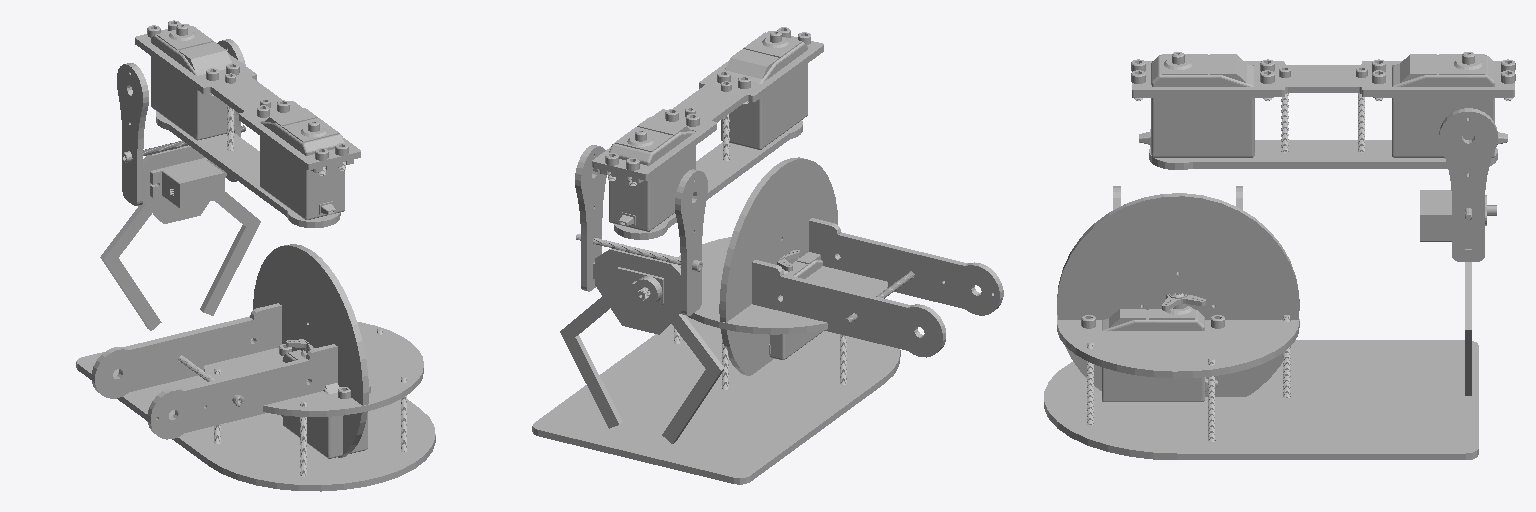
URDF robot description (little_robot_2023):
<?xml version="1.0" encoding="utf-8"?>
<!-- This URDF was automatically created by SolidWorks to URDF Exporter! Originally created by [author] ([email redacted]) 
     Commit Version: 1.6.0-4-g7f85cfe  Build Version: 1.6.7995.38578
     For more information, please see http://wiki.ros.org/sw_urdf_exporter -->
<robot
  name="little_robot_2023">
  <link
    name="base_link">
    <inertial>
      <origin
        xyz="2.9701E-11 0.023639 0.012305"
        rpy="0 0 0" />
      <mass
        value="0.07779" />
      <inertia
        ixx="0.00012072"
        ixy="5.3427E-14"
        ixz="3.2492E-15"
        iyy="5.5344E-05"
        iyz="-5.4001E-09"
        izz="0.00017528" />
    </inertial>
    <visual>
      <origin
        xyz="0 0 0"
        rpy="0 0 0" />
      <geometry>
        <mesh
          filename="package://little_robot_2023/meshes/base_link.STL" />
      </geometry>
      <material
        name="">
        <color
          rgba="0.75294 0.75294 0.75294 1" />
      </material>
    </visual>
    <collision>
      <origin
        xyz="0 0 0"
        rpy="0 0 0" />
      <geometry>
        <mesh
          filename="package://little_robot_2023/meshes/base_link.STL" />
      </geometry>
    </collision>
  </link>
  <link
    name="link_1">
    <inertial>
      <origin
        xyz="-1.0782E-16 0.017788 -2.5424E-06"
        rpy="0 0 0" />
      <mass
        value="0.032972" />
      <inertia
        ixx="2.097E-05"
        ixy="3.304E-21"
        ixz="3.5145E-22"
        iyy="2.4394E-05"
        iyz="6.1578E-21"
        izz="2.1467E-05" />
    </inertial>
    <visual>
      <origin
        xyz="0 0 0"
        rpy="0 0 0" />
      <geometry>
        <mesh
          filename="package://little_robot_2023/meshes/link_1.STL" />
      </geometry>
      <material
        name="">
        <color
          rgba="0.75294 0.75294 0.75294 1" />
      </material>
    </visual>
    <collision>
      <origin
        xyz="0 0 0"
        rpy="0 0 0" />
      <geometry>
        <mesh
          filename="package://little_robot_2023/meshes/link_1.STL" />
      </geometry>
    </collision>
  </link>
  <joint
    name="joint_1"
    type="revolute">
    <origin
      xyz="0 0 0.042"
      rpy="1.5708 0 1.5708" />
    <parent
      link="base_link" />
    <child
      link="link_1" />
    <axis
      xyz="0 1 0" />
    <limit
      lower="-1.571"
      upper="1.571"
      effort="0"
      velocity="0" />
  </joint>
  <link
    name="link_2">
    <inertial>
      <origin
        xyz="0.05675 2.7756E-16 0.0027959"
        rpy="0 0 0" />
      <mass
        value="0.031129" />
      <inertia
        ixx="1.8688E-06"
        ixy="-1.0685E-13"
        ixz="-3.0119E-21"
        iyy="2.5808E-05"
        iyz="-6.9014E-22"
        izz="2.6912E-05" />
    </inertial>
    <visual>
      <origin
        xyz="0 0 0"
        rpy="0 0 0" />
      <geometry>
        <mesh
          filename="package://little_robot_2023/meshes/link_2.STL" />
      </geometry>
      <material
        name="">
        <color
          rgba="0.75294 0.75294 0.75294 1" />
      </material>
    </visual>
    <collision>
      <origin
        xyz="0 0 0"
        rpy="0 0 0" />
      <geometry>
        <mesh
          filename="package://little_robot_2023/meshes/link_2.STL" />
      </geometry>
    </collision>
  </link>
  <joint
    name="joint_2"
    type="revolute">
    <origin
      xyz="0 0.0845 0"
      rpy="0 0 0" />
    <parent
      link="link_1" />
    <child
      link="link_2" />
    <axis
      xyz="0 0 1" />
    <limit
      lower="-1.571"
      upper="1.571"
      effort="0"
      velocity="0" />
  </joint>
  <link
    name="link_3">
    <inertial>
      <origin
        xyz="0.04247 0.0012743 0.00050505"
        rpy="0 0 0" />
      <mass
        value="0.015925" />
      <inertia
        ixx="2.9309E-06"
        ixy="-1.8461E-21"
        ixz="-1.6956E-21"
        iyy="7.613E-06"
        iyz="4.3843E-08"
        izz="5.3893E-06" />
    </inertial>
    <visual>
      <origin
        xyz="0 0 0"
        rpy="0 0 0" />
      <geometry>
        <mesh
          filename="package://little_robot_2023/meshes/link_3.STL" />
      </geometry>
      <material
        name="">
        <color
          rgba="0.75294 0.75294 0.75294 1" />
      </material>
    </visual>
    <collision>
      <origin
        xyz="0 0 0"
        rpy="0 0 0" />
      <geometry>
        <mesh
          filename="package://little_robot_2023/meshes/link_3.STL" />
      </geometry>
    </collision>
  </link>
  <joint
    name="joint_3"
    type="revolute">
    <origin
      xyz="0.1135 0 0"
      rpy="0 0 0" />
    <parent
      link="link_2" />
    <child
      link="link_3" />
    <axis
      xyz="0 0 1" />
    <limit
      lower="-1.571"
      upper="1.571"
      effort="0"
      velocity="0" />
  </joint>
</robot>

--- Render facts (derived) ---
Views: 3 orthographic renders of the robot side by side, from view 1: azimuth 30°, elevation 25°; view 2: azimuth 150°, elevation 25°; view 3: azimuth 270°, elevation 25°.
Robot: little_robot_2023 — 4 links, 3 joints (3 revolute); root link base_link; default pose: every joint at zero.
Links seen in each view (by area): view 1: link_1, base_link, link_2, link_3; view 2: base_link, link_1, link_2, link_3; view 3: base_link, link_2, link_1, link_3.
Boxes of the visible links, x1=… form: link_1: x1=92, y1=244, x2=368, y2=457; base_link: x1=76, y1=316, x2=435, y2=491; link_2: x1=135, y1=20, x2=360, y2=227; link_3: x1=100, y1=39, x2=260, y2=330; base_link: x1=532, y1=237, x2=900, y2=484; link_1: x1=719, y1=157, x2=1003, y2=375; link_2: x1=592, y1=27, x2=823, y2=239; link_3: x1=560, y1=145, x2=724, y2=443; base_link: x1=1044, y1=293, x2=1478, y2=459; link_2: x1=1131, y1=52, x2=1515, y2=169; link_1: x1=1057, y1=186, x2=1299, y2=396; link_3: x1=1420, y1=108, x2=1497, y2=395.
Size in the robot's own frame: 0.1484 by 0.1841 by 0.1565 metres.
Meshes: 4 distinct files referenced, 4 mesh visuals loaded (4 binary STL).